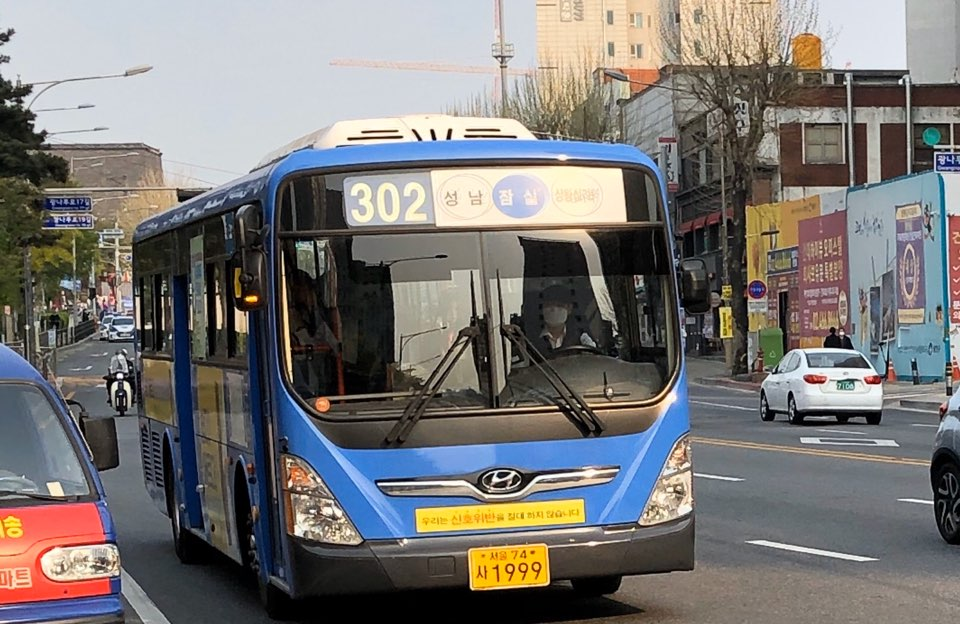bnum: (342, 176, 432, 226)
